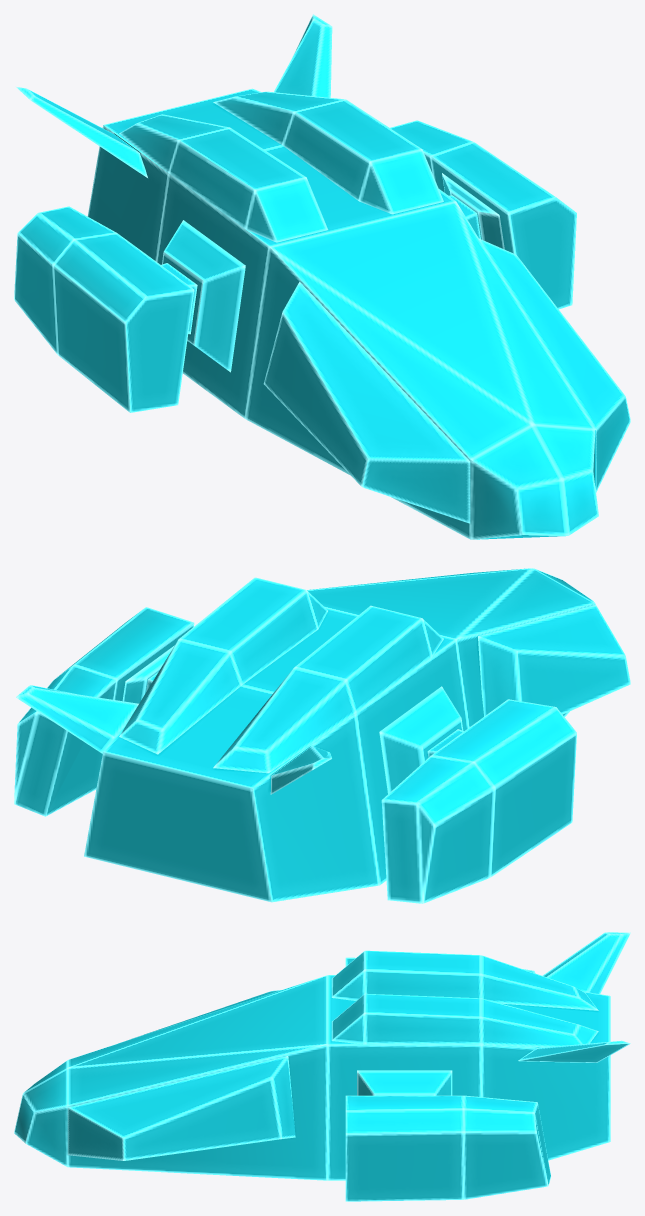
The model's file is ally_assault.FBX.
3 renders of one model, top to bottom at view 1: azimuth 30°, elevation 25°; view 2: azimuth 150°, elevation 25°; view 3: azimuth 270°, elevation 25°, orthographic. The views are drawn at different scales.
Visible parts, largest first — view 1: Assault_bot_player; view 2: Assault_bot_player; view 3: Assault_bot_player.
Boxes of the visible parts, x1,y1,x2,y2 form: Assault_bot_player: (14,14,630,539); Assault_bot_player: (14,568,630,903); Assault_bot_player: (14,932,630,1201).
Size of the model in its own units: 35.8 by 17.94 by 55.49.
